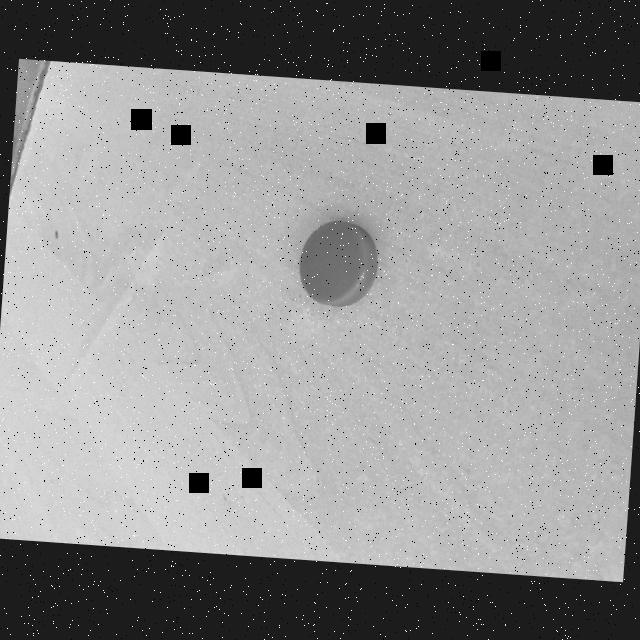plastic_bottle_cap: (287, 213, 385, 315)
